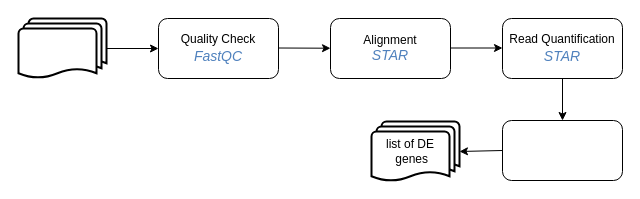
Image size: 640x199. Some labels were removed from this diagram. The shapes that lost their labels are listed below. From the top down, each one's centre as x and y in pixels, then its label:
At (62,48): "raw data fastq".
At (562,150): "Differential Expression Analysis DESeq2".
